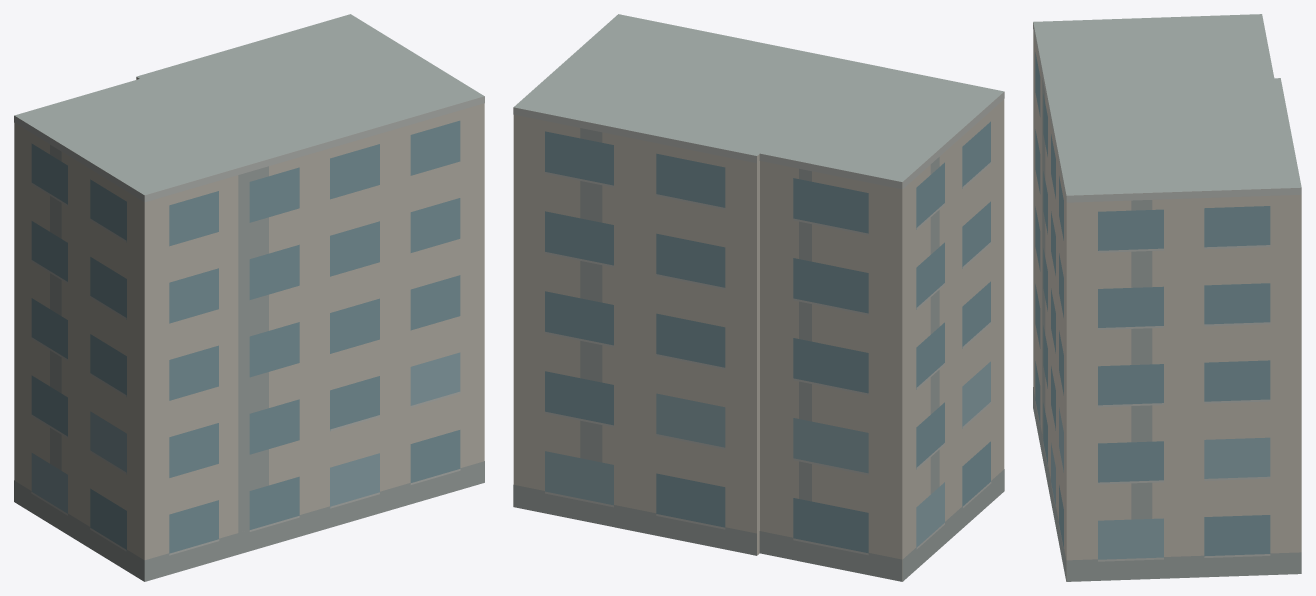
File: survey-upis-32638818.glb
3 renders of one model, left to right at view 1: azimuth 30°, elevation 25°; view 2: azimuth 150°, elevation 25°; view 3: azimuth 270°, elevation 25°, orthographic. The views are drawn at different scales.
Parts seen in each view (by area): view 1: survey-upis-32638818.tmp; view 2: survey-upis-32638818.tmp; view 3: survey-upis-32638818.tmp.
Part boxes in pixels (x1,y1,x2,y2): survey-upis-32638818.tmp: [14, 14, 484, 581]; survey-upis-32638818.tmp: [513, 14, 1004, 581]; survey-upis-32638818.tmp: [1033, 14, 1301, 581].
Size of the model in its own units: 13.53 by 13.4 by 8.46.
